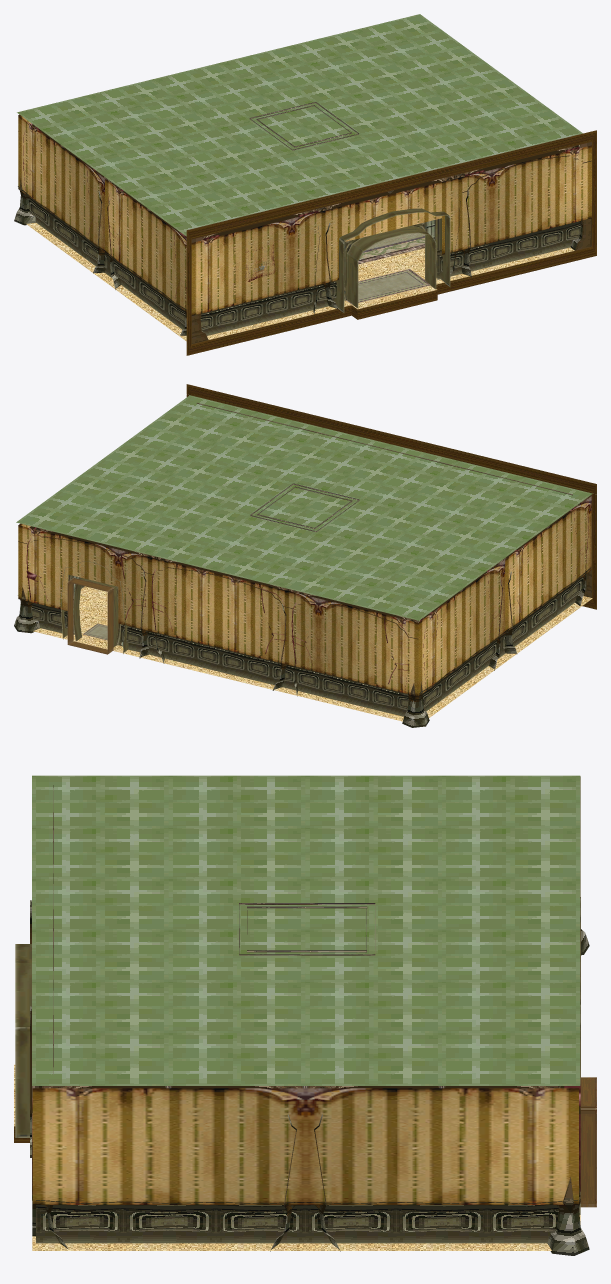
Rendered from room_35.glb.
3 renders of one model, top to bottom at view 1: azimuth 30°, elevation 25°; view 2: azimuth 150°, elevation 25°; view 3: azimuth 270°, elevation 25°, orthographic. The views are drawn at different scales.
Parts seen in each view (by area): view 1: room_35; view 2: room_35; view 3: room_35.
Boxes of the visible parts, bbox=[...] form: room_35: bbox=[14, 14, 596, 355]; room_35: bbox=[14, 384, 596, 727]; room_35: bbox=[14, 775, 596, 1255].
Size of the model in its own units: 2059 by 600 by 1600.
Materials: 17 (17 with a texture image).
